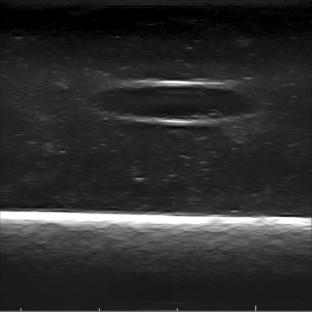vessel: (93, 79, 260, 126)
